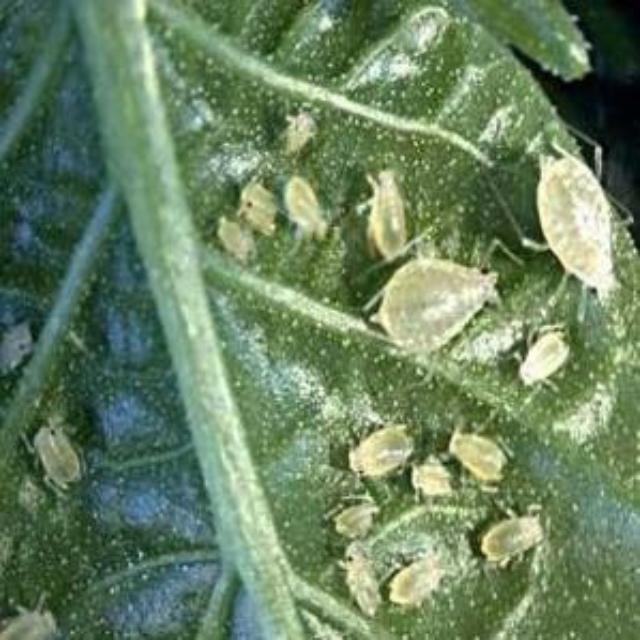Green peach aphid: (478, 113, 640, 313), (358, 255, 508, 368), (348, 138, 424, 262), (326, 399, 422, 497), (463, 500, 561, 580), (264, 144, 336, 252), (506, 309, 582, 407), (438, 404, 518, 496), (15, 413, 99, 492), (317, 537, 393, 621), (372, 541, 450, 617), (196, 208, 268, 288), (236, 172, 294, 266), (314, 482, 388, 544), (257, 91, 323, 160), (400, 448, 460, 516), (3, 578, 63, 640), (0, 317, 56, 381)
